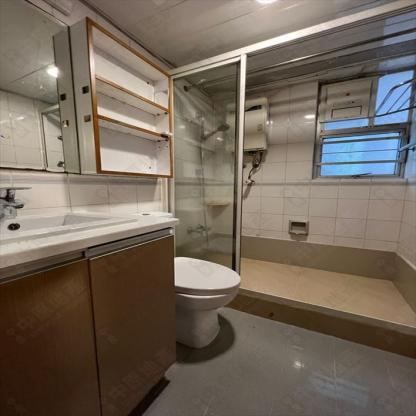Faucet: (3, 184, 36, 217)
Thermo Ventilator: (318, 75, 378, 121)
Toilet: (173, 256, 240, 348)
Toilet Sink: (0, 212, 136, 243)
Water Cubicle: (173, 62, 241, 267)
Water Heater: (225, 94, 271, 153)
